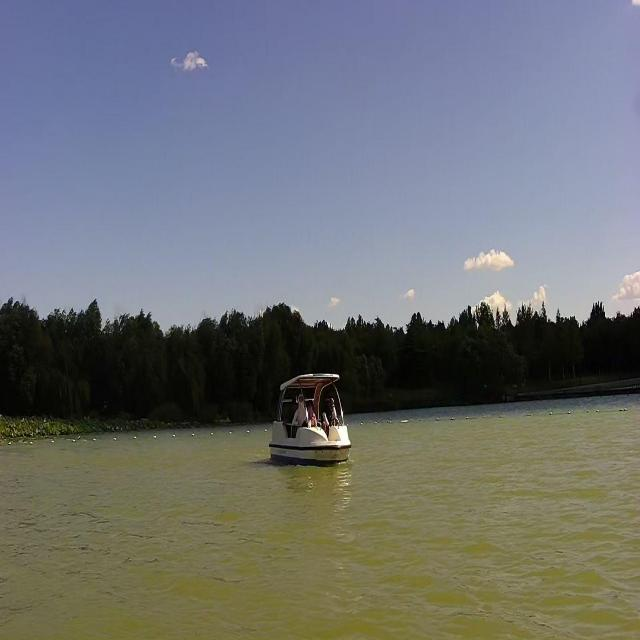CIV_Ship: (264, 369, 351, 467)
